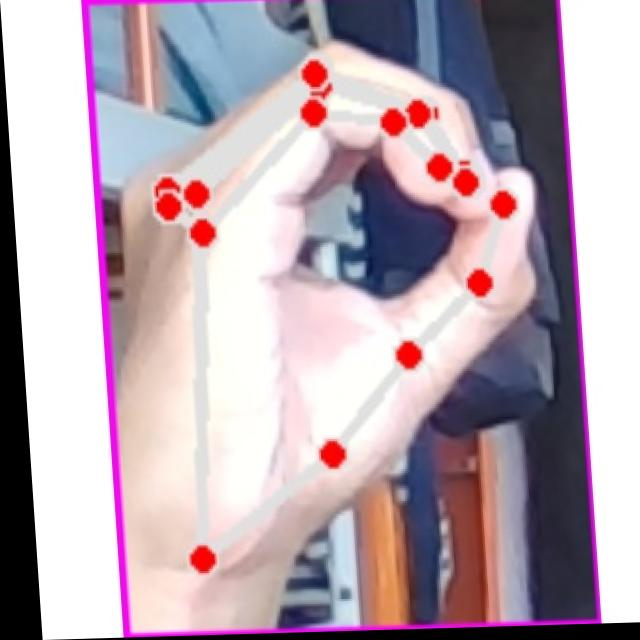O: (99, 23, 568, 602)
